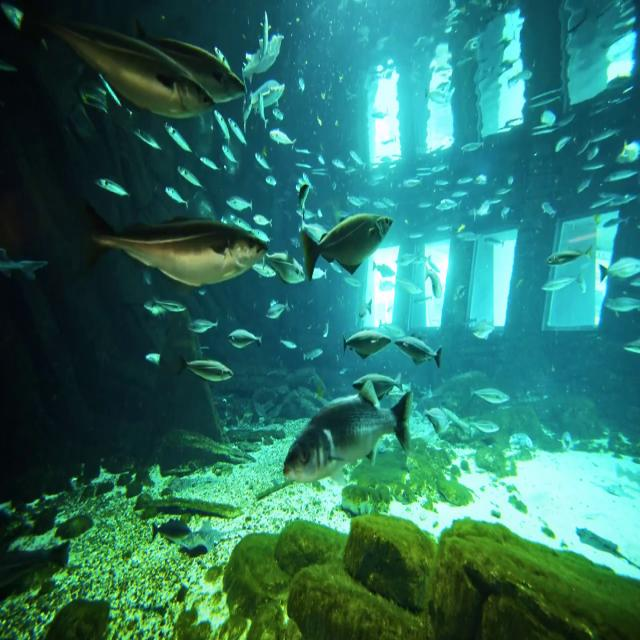fish: (29, 16, 218, 118), (84, 210, 266, 286), (286, 396, 410, 481), (302, 211, 393, 281), (339, 328, 392, 360), (398, 335, 444, 364)
